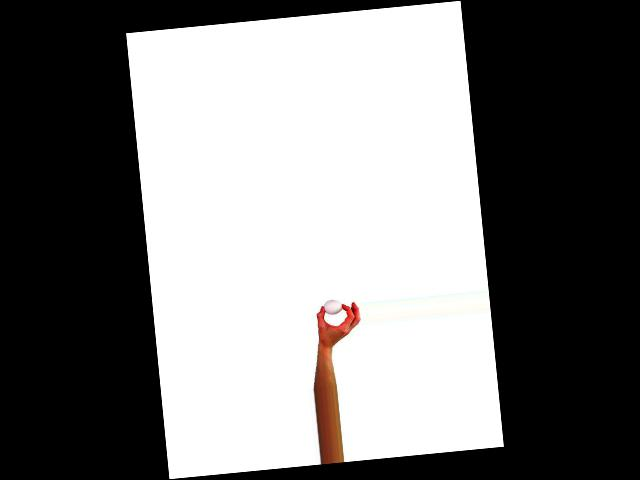egg: (323, 299, 342, 315)
